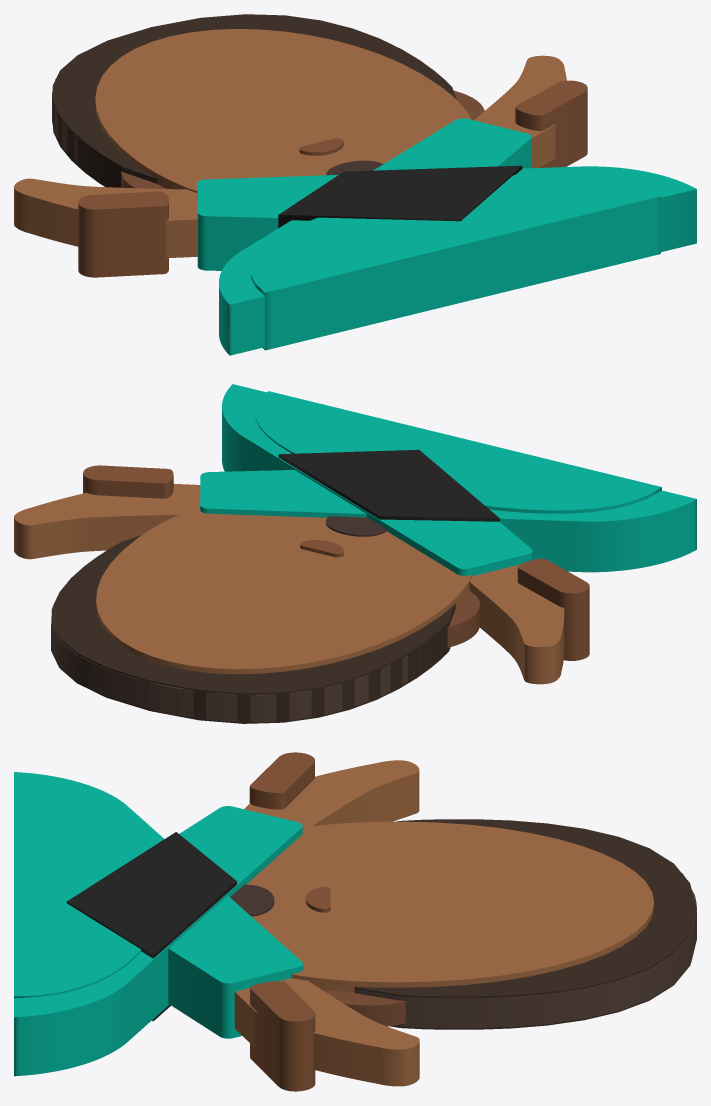
The model's file is emoji_u1f645_1f3fe_200d_2642.glb.
The picture shows the model from 3 angles, top to bottom: view 1: azimuth 30°, elevation 25°; view 2: azimuth 150°, elevation 25°; view 3: azimuth 270°, elevation 25°; orthographic projection. The views are drawn at different scales.
Visible parts, largest first — view 1: emoji_u1f645_1f3fe_200d_2642; view 2: emoji_u1f645_1f3fe_200d_2642; view 3: emoji_u1f645_1f3fe_200d_2642.
Boxes of the visible parts, x1=… form: emoji_u1f645_1f3fe_200d_2642: x1=14, y1=14, x2=696, y2=355; emoji_u1f645_1f3fe_200d_2642: x1=14, y1=384, x2=696, y2=723; emoji_u1f645_1f3fe_200d_2642: x1=14, y1=752, x2=696, y2=1091.
Bounding box in the file's own units: 0.0335 × 0.004 × 0.0336.
